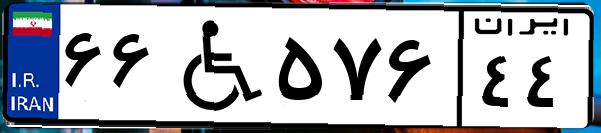4: (475, 38, 525, 113), (525, 38, 570, 115)
5: (270, 28, 330, 110)
6: (385, 28, 445, 110), (57, 26, 110, 100), (110, 28, 158, 98)
7: (330, 28, 385, 110)
ژ (معلولین و جانبازان): (158, 12, 270, 120)
